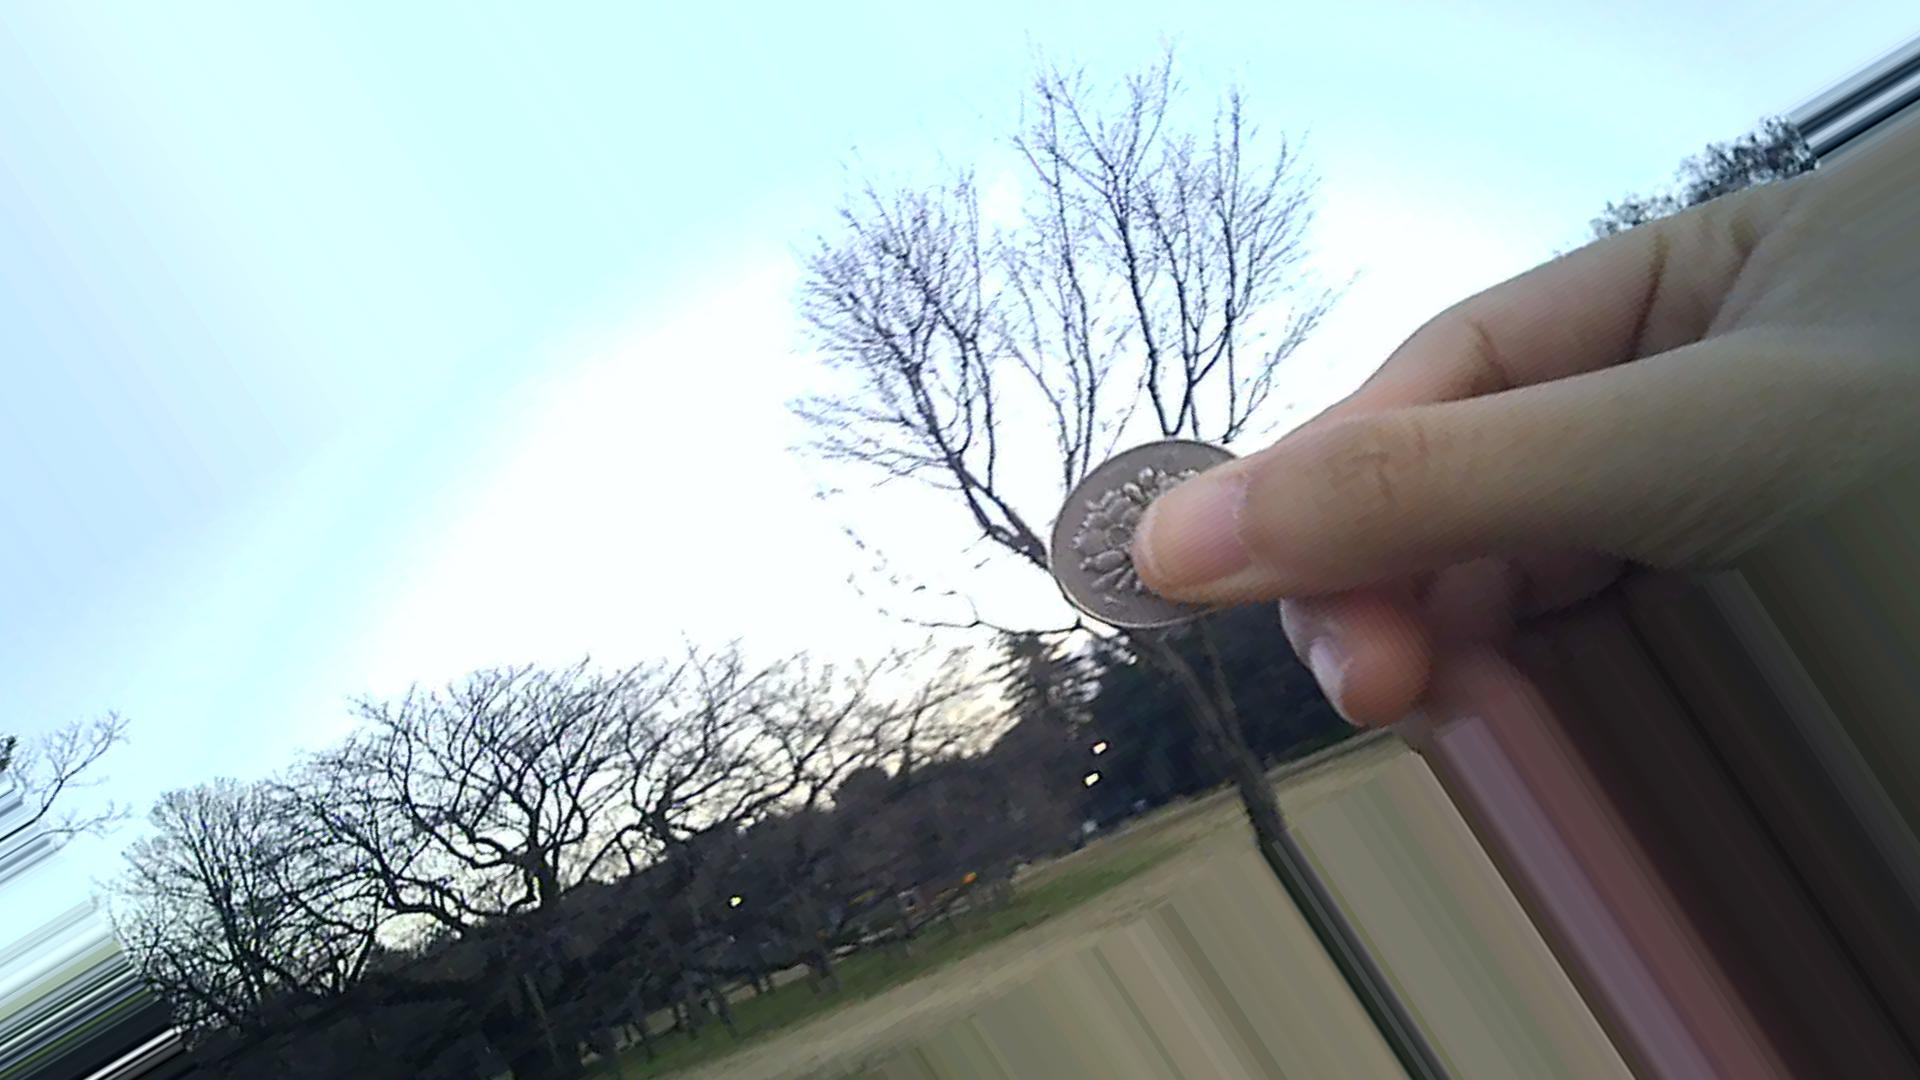100 Yen: (1036, 429, 1288, 621)
